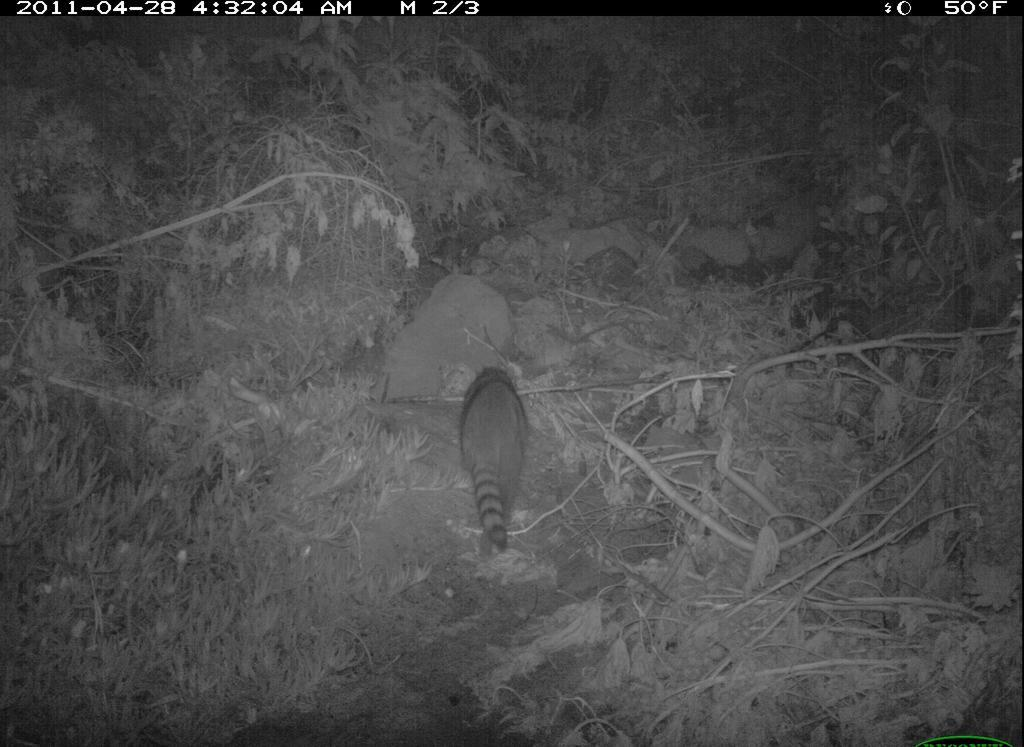raccoon: (455, 353, 543, 565)
